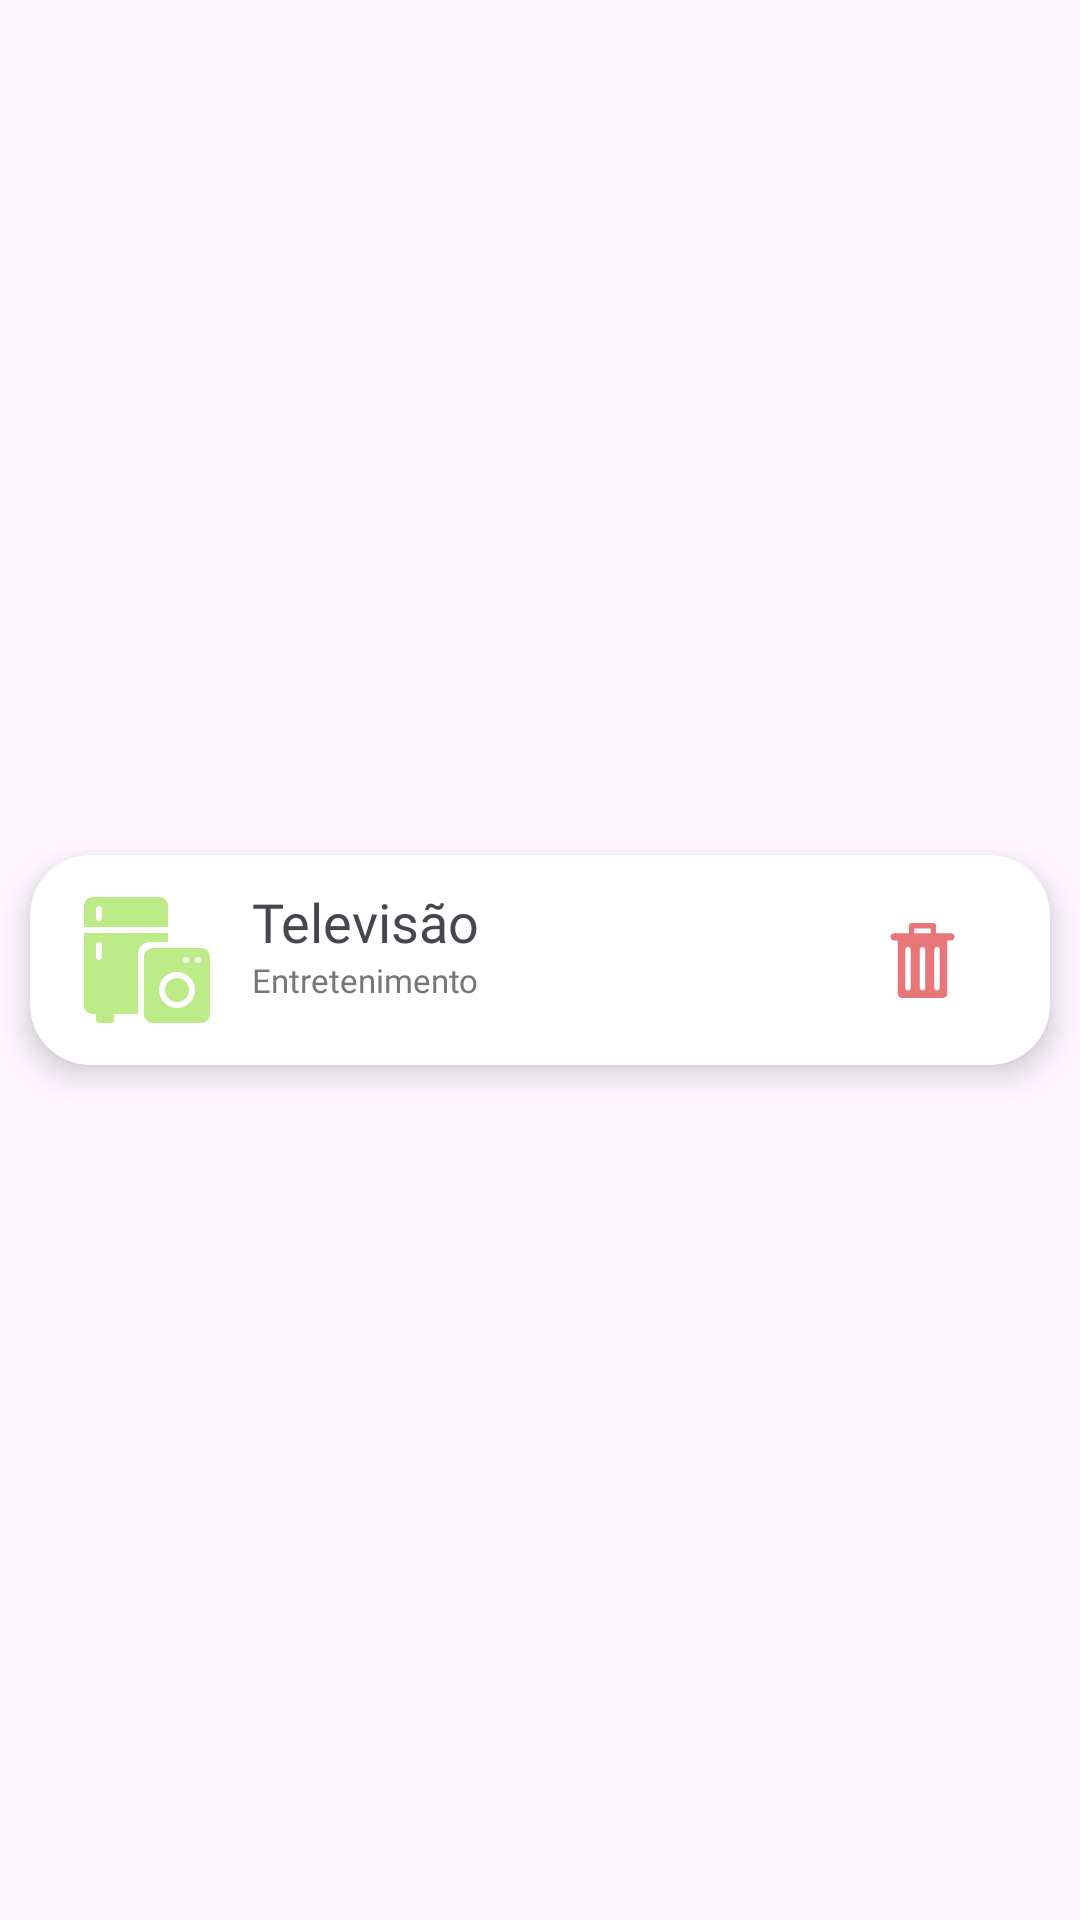

Locate icon controls on the screen. Image size 1080 × 1920, boxes as (x1, y1, x2, y2).
appliances: (84, 897, 210, 1023)
trash can: (890, 923, 955, 998)
